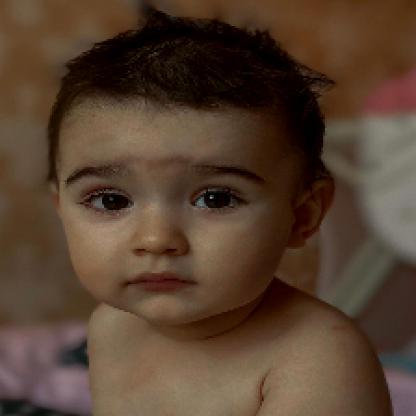child: (46, 12, 397, 415)
